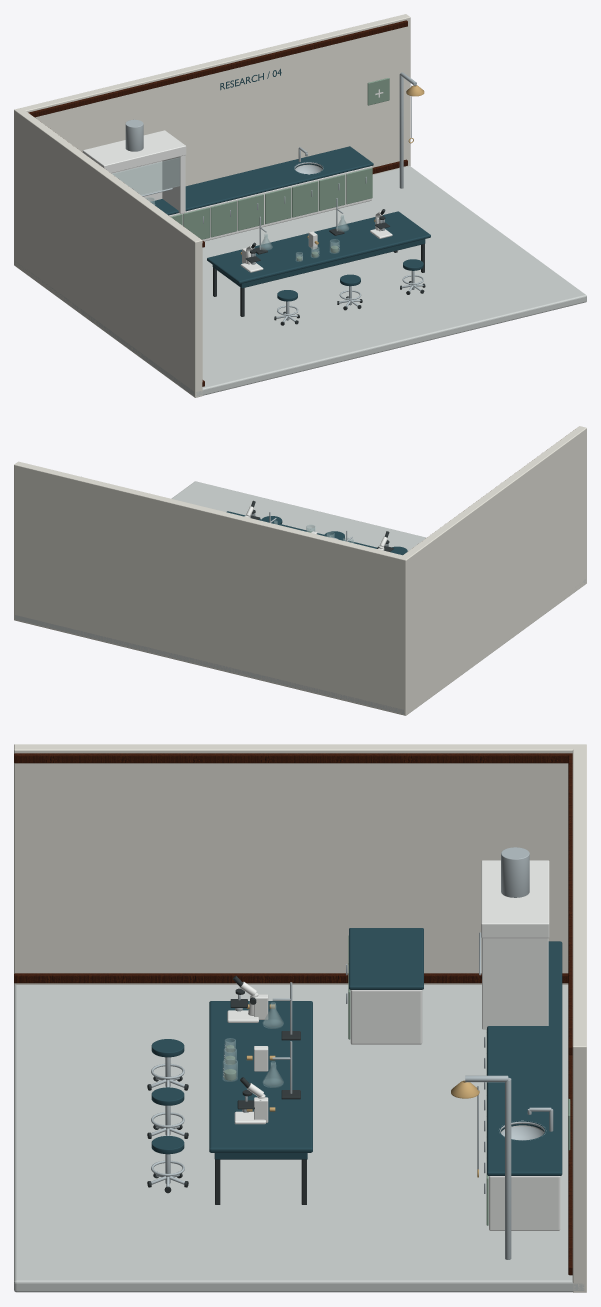
The model's file is science_research_laboratory.glb.
The picture shows the model from 3 angles, top to bottom: view 1: azimuth 30°, elevation 25°; view 2: azimuth 150°, elevation 25°; view 3: azimuth 270°, elevation 25°; orthographic projection. The views are drawn at different scales.
Visible parts, largest first — view 1: RefinedSurface_Ivory plaster, Architecture_Floor, RefinedSurface_Ink blue, RefinedSurface_Sage, RefinedSurface_Porcelain, Lab_BackBench_Worktop, RefinedSurface_Warm oak, RefinedSurface_Steel, RefinedSurface_Glass, Lab_BackBench_Carcass, RefinedSurface_Black metal; view 2: RefinedSurface_Ivory plaster, Architecture_Floor, RefinedSurface_Ink blue; view 3: Architecture_Floor, RefinedSurface_Ivory plaster, RefinedSurface_Ink blue, RefinedSurface_Porcelain, RefinedSurface_Warm oak, Lab_BackBench_Worktop, RefinedSurface_Steel, Lab_BackBench_Carcass, RefinedSurface_Black metal, RefinedSurface_Glass, RefinedSurface_Sage.
Part boxes in pixels (x1,y1,x2,y2): RefinedSurface_Ivory plaster: (14,14,410,397); Architecture_Floor: (15,166,586,396); RefinedSurface_Ink blue: (207,68,430,301); RefinedSurface_Sage: (170,78,389,261); RefinedSurface_Porcelain: (82,89,392,272); Lab_BackBench_Worktop: (151,146,373,215); RefinedSurface_Warm oak: (28,20,407,386); RefinedSurface_Steel: (125,72,423,322); RefinedSurface_Glass: (112,157,348,261); Lab_BackBench_Carcass: (169,164,371,241); RefinedSurface_Black metal: (213,209,425,325); RefinedSurface_Ivory plaster: (14,426,586,715); Architecture_Floor: (15,481,585,714); RefinedSurface_Ink blue: (226,511,407,555); Architecture_Floor: (14,985,584,1292); RefinedSurface_Ivory plaster: (14,744,586,1292); RefinedSurface_Ink blue: (151,928,423,1159); RefinedSurface_Porcelain: (223,860,549,1124); RefinedSurface_Warm oak: (14,753,572,1275); Lab_BackBench_Worktop: (487,941,562,1175); RefinedSurface_Steel: (151,847,553,1259); Lab_BackBench_Carcass: (489,1125,560,1230); RefinedSurface_Black metal: (147,975,306,1204); RefinedSurface_Glass: (223,1002,283,1087); RefinedSurface_Sage: (224,935,570,1225).
Bounding box in the file's own units: 10 × 3.8 × 8.
Materials: 10 (1 with a texture image).
